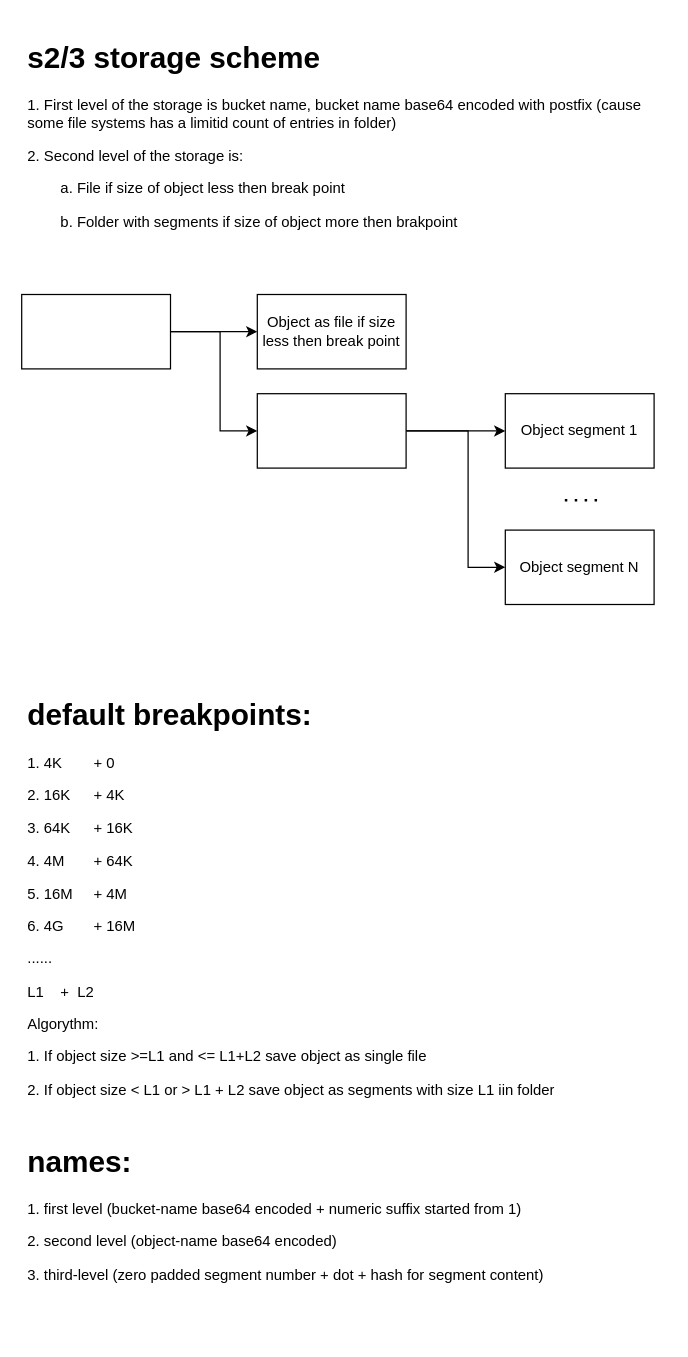
Some shapes in this 688 by 1357 pixel diagram are drawn without their labels. The centre of each missing label's shape, as x and y in pixels:
Bucket (base64 encoded name): (95,331)
Object as folder if size more then break point: (331,430)
